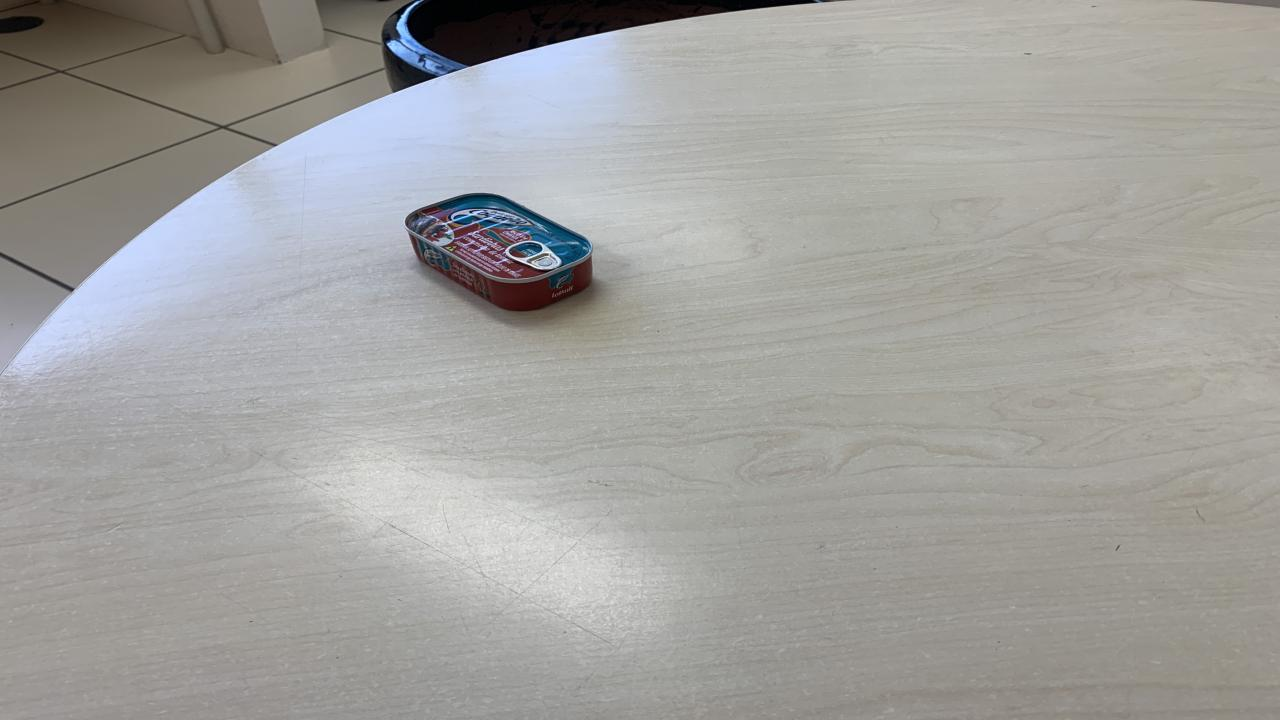Tuna_Can-Pantry_Items: (404, 194, 594, 314)
